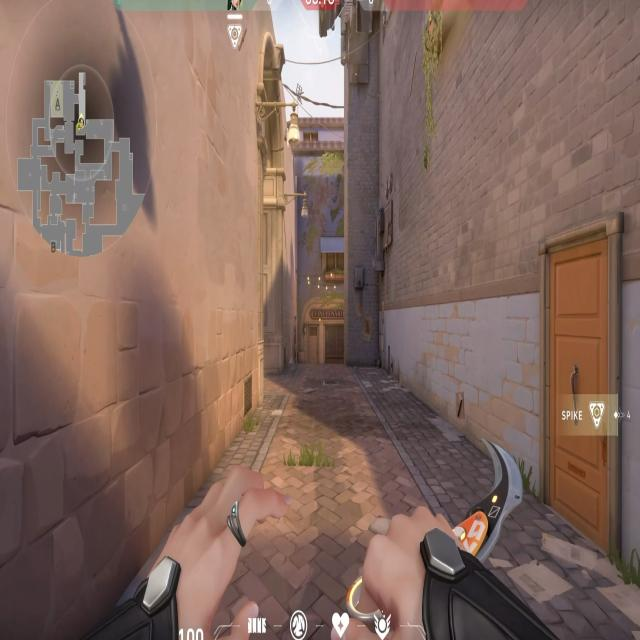Wine: (281, 264, 370, 385)
